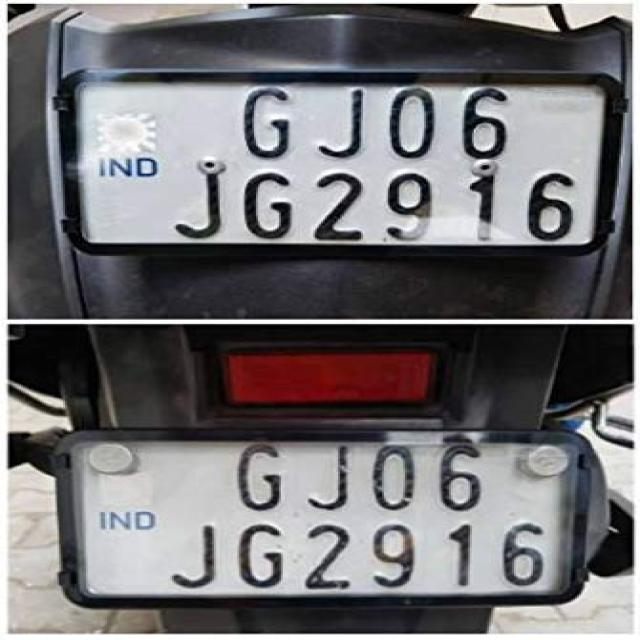plate: (64, 77, 607, 253), (64, 438, 578, 598)
